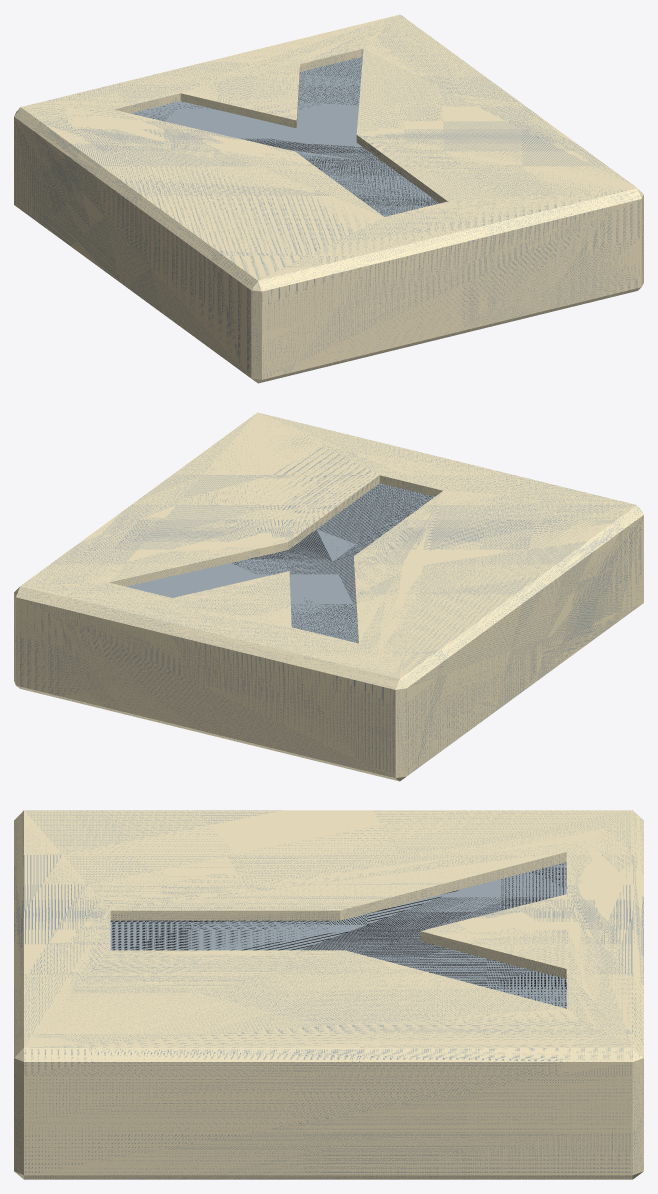
Rendered from Boardgame_Anagram_Tile_Y.fbx.
3 views of the same model, one above another, from view 1: azimuth 30°, elevation 25°; view 2: azimuth 150°, elevation 25°; view 3: azimuth 270°, elevation 25° (orthographic). The views are drawn at different scales.
Visible parts, largest first — view 1: Model; view 2: Model; view 3: Model.
Boxes of the visible parts, x1,y1,x2,y2 form: Model: (14, 14, 643, 383); Model: (14, 412, 643, 781); Model: (14, 810, 643, 1179).
Bounding box in the file's own units: 195 × 48.83 × 212.
